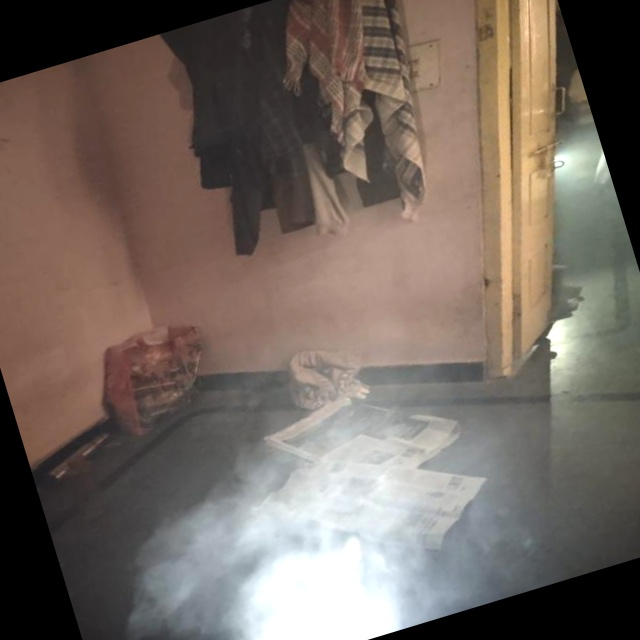smoke: (158, 444, 425, 640)
